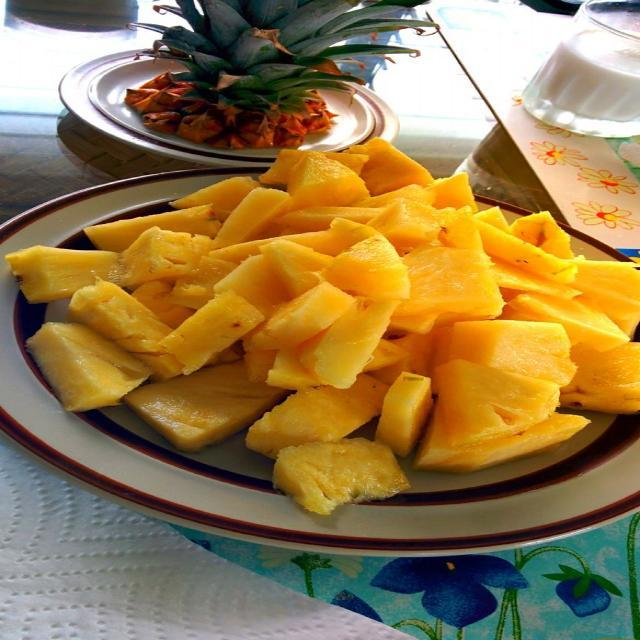Pineapple: (0, 137, 639, 519), (125, 0, 449, 153)
